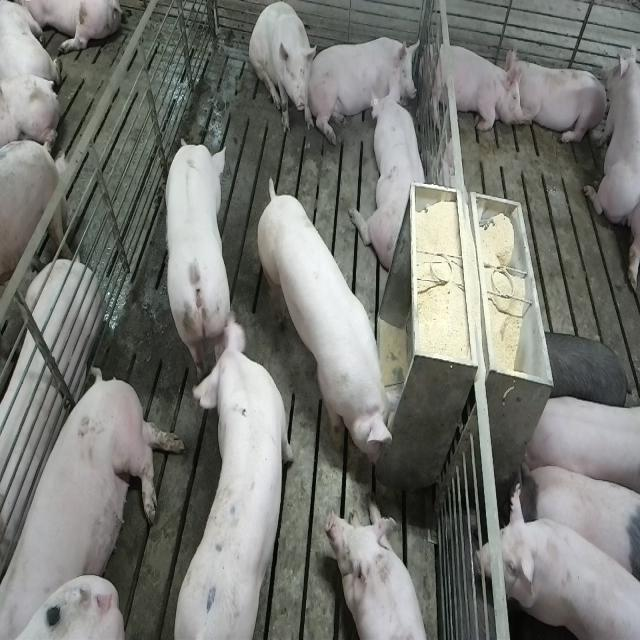Feeding: (262, 166, 406, 474)
Lateral_lying: (5, 363, 186, 636), (0, 260, 102, 578)
Sitting: (248, 2, 316, 138)
Standing: (182, 314, 298, 640), (477, 486, 640, 640), (159, 134, 231, 377), (516, 455, 638, 589), (0, 140, 72, 340), (521, 392, 637, 499), (526, 323, 636, 414)
Sternal_lying: (332, 500, 434, 640), (356, 84, 430, 274), (313, 28, 419, 136), (509, 51, 609, 149), (586, 36, 637, 227), (425, 36, 519, 135)
